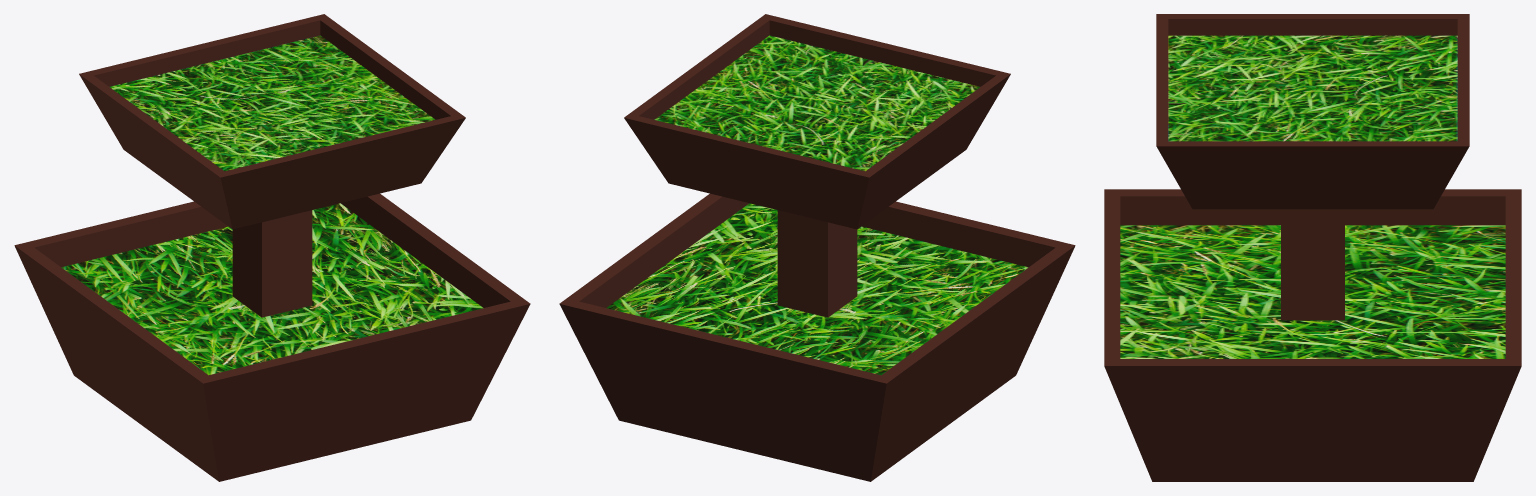
The model's file is verticalGarden.glb.
3 renders of one model, left to right at view 1: azimuth 30°, elevation 25°; view 2: azimuth 150°, elevation 25°; view 3: azimuth 270°, elevation 25°, orthographic. The views are drawn at different scales.
Visible parts, largest first — view 1: meGrowBoxBottom, meGrowBoxMid, meSupportBeamBottom; view 2: meGrowBoxBottom, meGrowBoxMid, meSupportBeamBottom; view 3: meGrowBoxBottom, meGrowBoxMid, meSupportBeamBottom.
Boxes of the visible parts, x1=… form: meGrowBoxBottom: x1=14, y1=193, x2=530, y2=481; meGrowBoxMid: x1=79, y1=14, x2=465, y2=229; meSupportBeamBottom: x1=232, y1=210, x2=312, y2=317; meGrowBoxBottom: x1=559, y1=193, x2=1075, y2=481; meGrowBoxMid: x1=624, y1=14, x2=1010, y2=229; meSupportBeamBottom: x1=777, y1=210, x2=857, y2=317; meGrowBoxBottom: x1=1104, y1=189, x2=1521, y2=481; meGrowBoxMid: x1=1156, y1=14, x2=1469, y2=209; meSupportBeamBottom: x1=1281, y1=209, x2=1344, y2=320.
Size of the model in its own units: 2.6 by 2.29 by 2.6.
2 materials, 2 textured.
